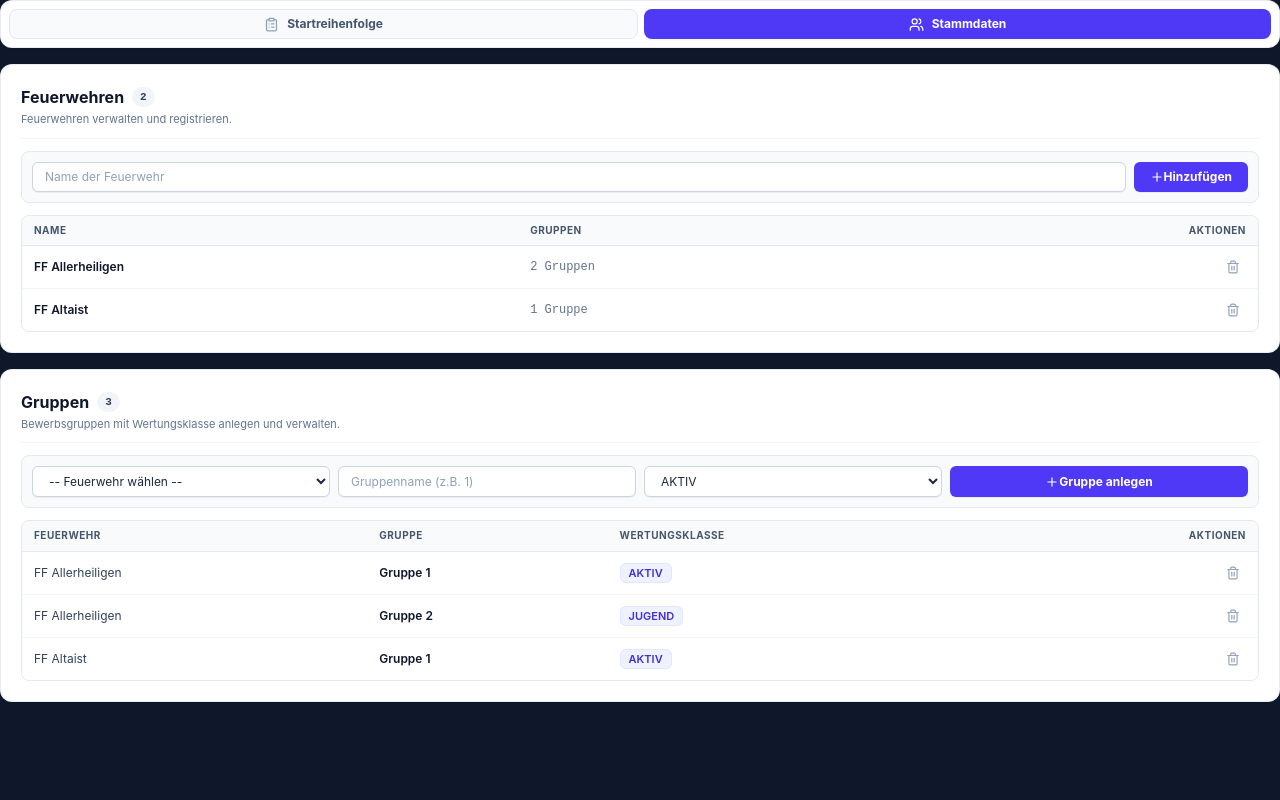
Scenario: ParticipantsTab Component › filters groups table when a brigade is selected in the dropdown
Expected: the text "Gruppe 2" is shown, [367,594,608,637]
Select FF Altaist (b-2)
Select "FF Altaist" in the dropdown named "Feuerwehr auswählen" at (181, 482), box [32,466,330,497]
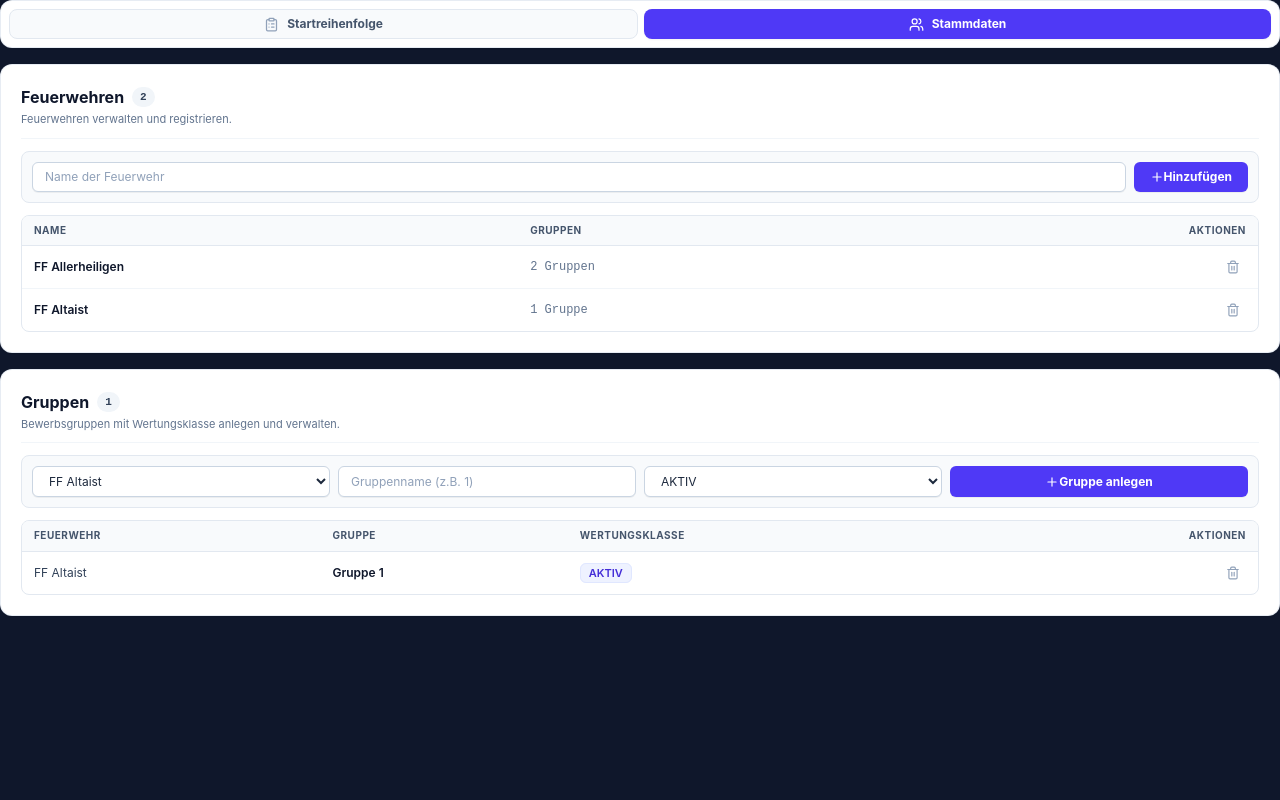
Expected: the text "Gruppe 2" is gone
Select "-- Feuerwehr wählen --" (empty value) to show all groups again
Select "-- Feuerwehr wählen --" in the dropdown named "Feuerwehr auswählen" at (181, 482), box [32,466,330,497]
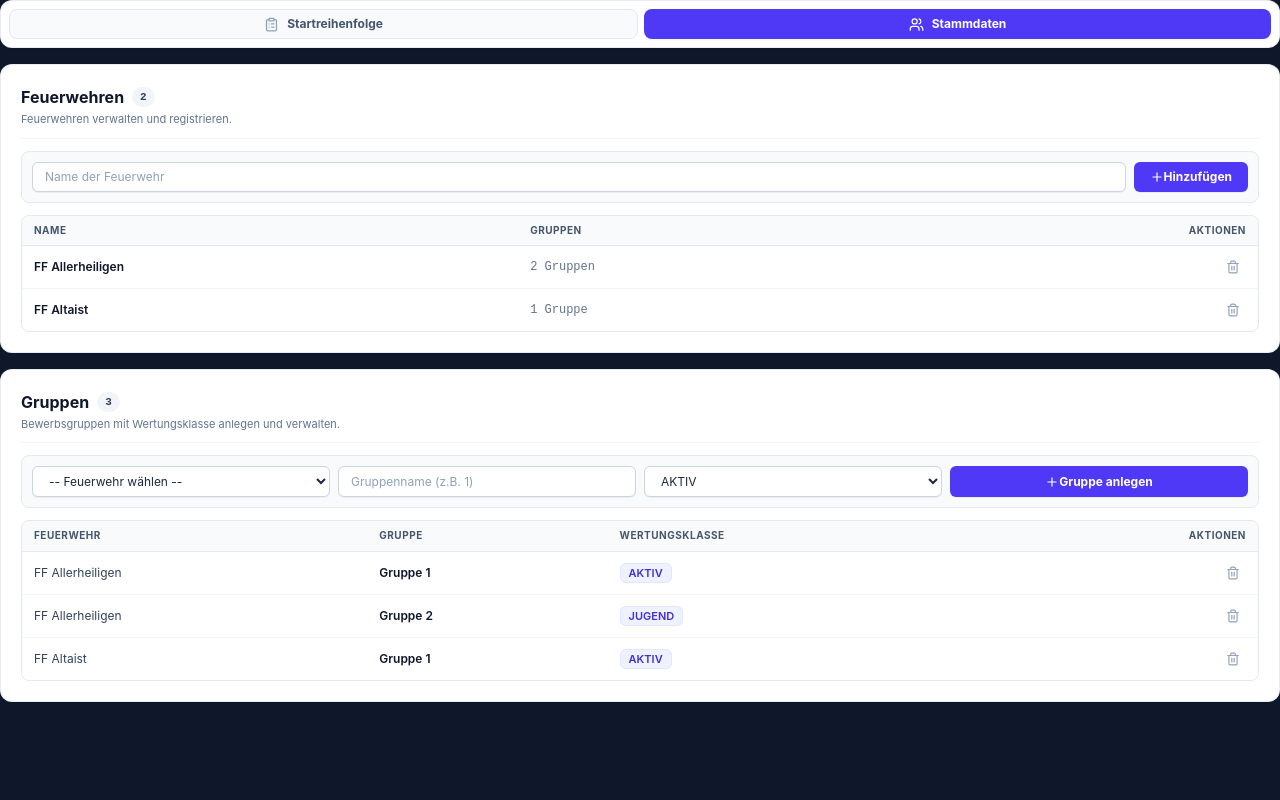
Expected: the text "Gruppe 2" is shown, [367,594,608,637]
